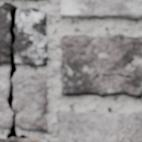brick: (61, 34, 141, 95), (58, 110, 141, 141), (60, 0, 141, 18), (0, 137, 47, 141)
broken_brick: (14, 69, 48, 132), (16, 7, 48, 65), (0, 67, 11, 129), (0, 6, 9, 64)
crack: (0, 2, 28, 139), (45, 24, 47, 37)
